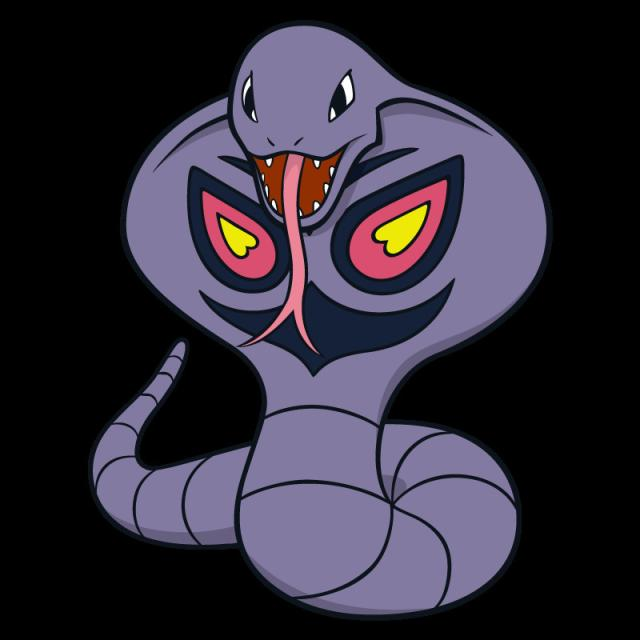Arbok: (125, 18, 552, 620)
